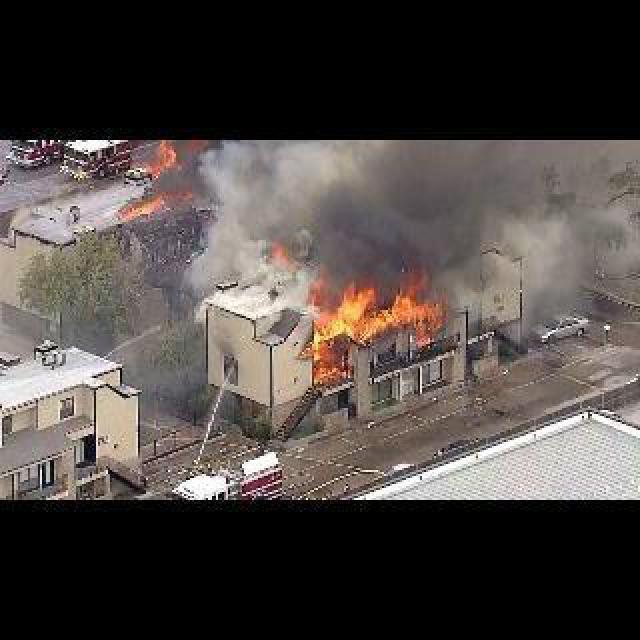Fire: (284, 288, 454, 390), (108, 148, 196, 220)
Smoke: (188, 142, 522, 290)
